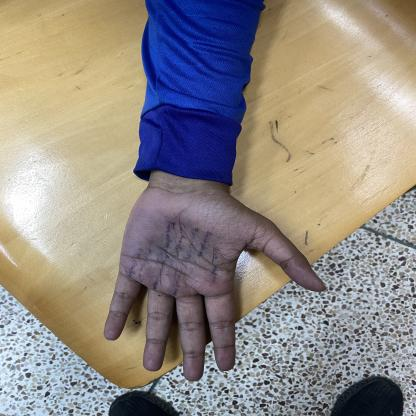hand: (101, 180, 332, 391)
